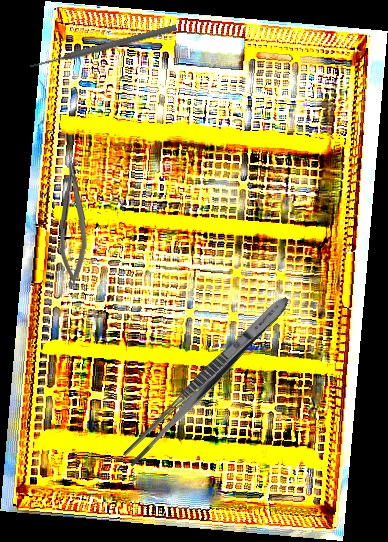Dressing Forceps: (119, 290, 295, 470)
Needle Holder: (57, 153, 90, 287)
Pusher: (28, 22, 178, 72)
